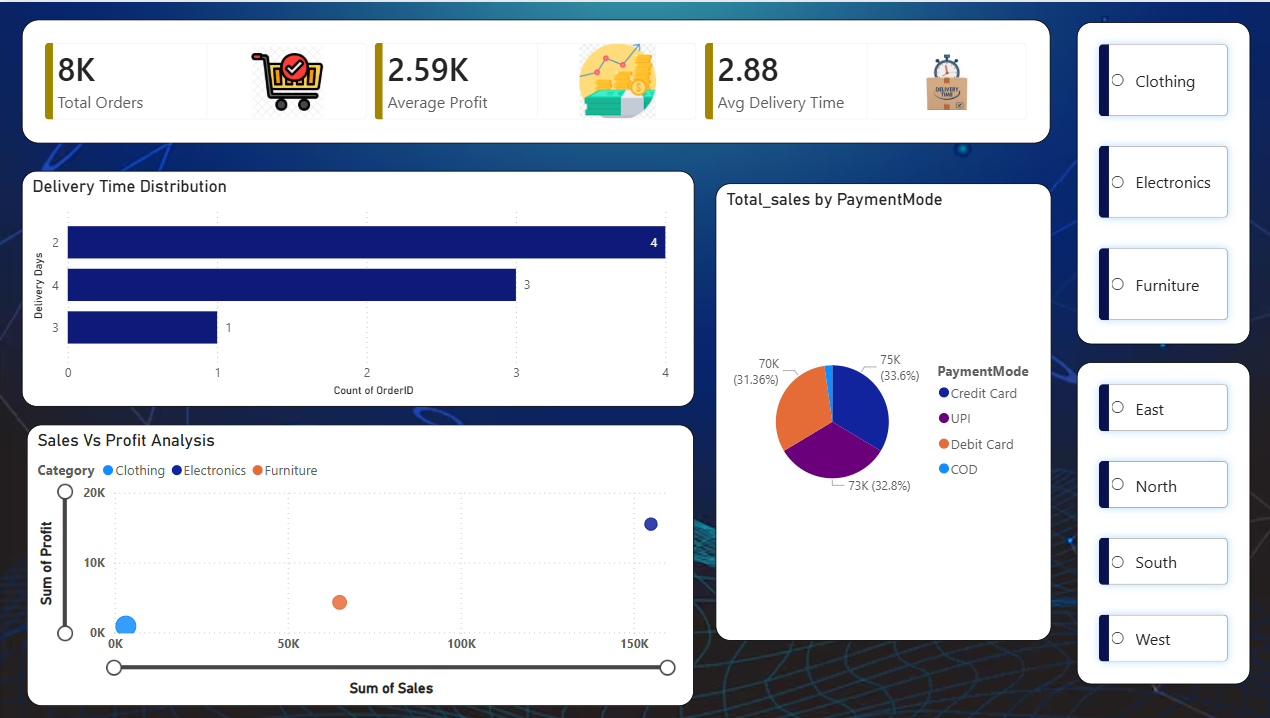

What the dashboard file says about the page in this screenshot:
{"tool":"powerbi","page":{"name":"Operational Insights","canvas":[1280,720],"ordinal":3},"visuals":[{"type":"cardVisual","fields":{"Data":["Table.Total_orders","Table.Average profit","Avg(Table.m)"]},"box":[23.8,17.5,1028.8,123.8],"z":0},{"type":"clusteredBarChart","title":"Delivery Time Distribution","fields":{"Category":["Table.Delivery Days (groups)"],"Y":["CountNonNull(Table.OrderID)"]},"box":[23.8,168.8,672.5,236.2],"z":1000},{"type":"scatterChart","title":"Sales Vs Profit Analysis","fields":{"X":["Sum(Table.Sales)"],"Y":["Sum(Table.Profit)"],"Size":["Sum(Table.Quantity)"],"Series":["Table.Category"]},"box":[28.8,422.5,667.5,281.2],"z":2000},{"type":"advancedSlicerVisual","fields":{"Values":["Table.Region"]},"box":[1078.8,360,173.8,322.5],"z":4000},{"type":"advancedSlicerVisual","fields":{"Values":["Table.Category"]},"box":[1078.8,20,173.8,322.5],"z":5000},{"type":"pieChart","fields":{"Category":["Table.PaymentMode"],"Y":["Table.Total_sales"]},"box":[717.5,181.2,336.2,457.5],"z":6000}]}

Visuals, with their boxes in screenshot pixels (x1, y1, x2, y2), scaled from the page's 1280x720 canvas onto the 1270x718 screenshot:
cardVisual - Table.Total_orders x Table.Average profit: l=24, t=17, r=1044, b=141
"Delivery Time Distribution" clusteredBarChart: l=24, t=168, r=691, b=404
"Sales Vs Profit Analysis" scatterChart: l=29, t=421, r=691, b=702
advancedSlicerVisual - Table.Region: l=1070, t=359, r=1243, b=681
advancedSlicerVisual - Table.Category: l=1070, t=20, r=1243, b=342
pieChart - Table.PaymentMode x Table.Total_sales: l=712, t=181, r=1045, b=637
